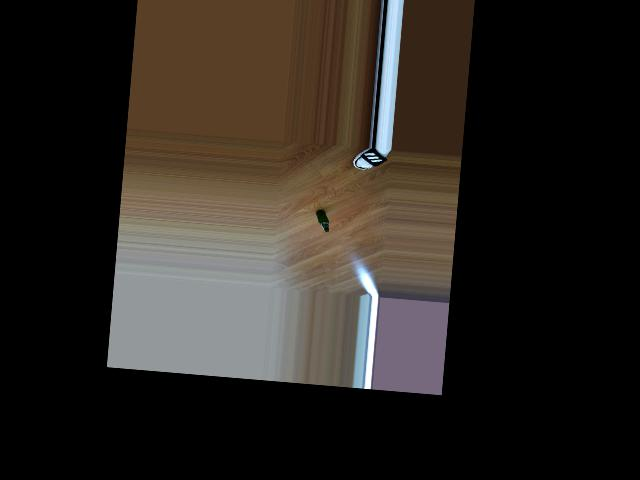beer: (315, 209, 331, 231)
